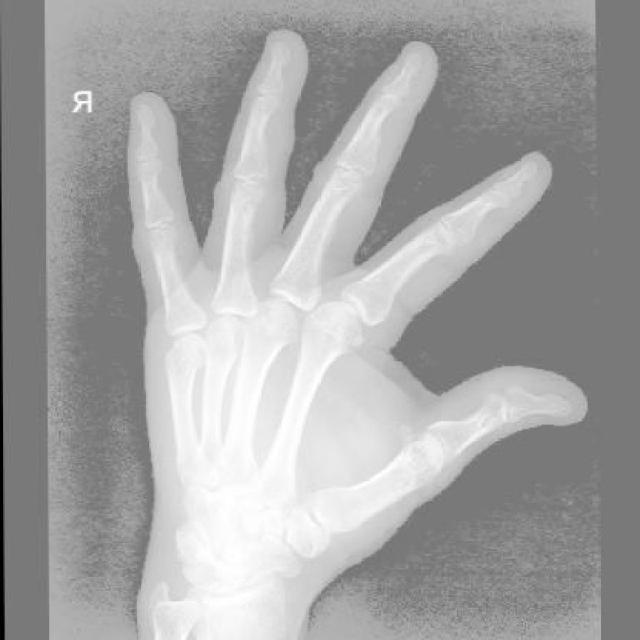Fracture: (166, 339, 200, 384)
